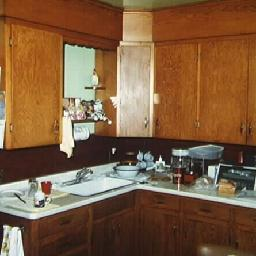Lavaplatos: (56, 167, 142, 206)
